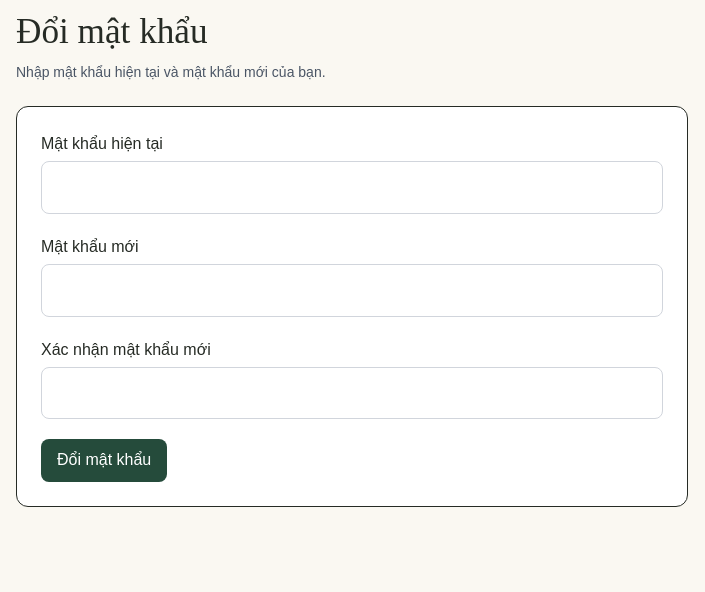
Test: change-password posts only password fields with the existing bearer and clears on success
Step 1. Type "Old-password@123" into the password field labelled "Mật khẩu hiện tại" → (352, 188), box [41,161,663,214]
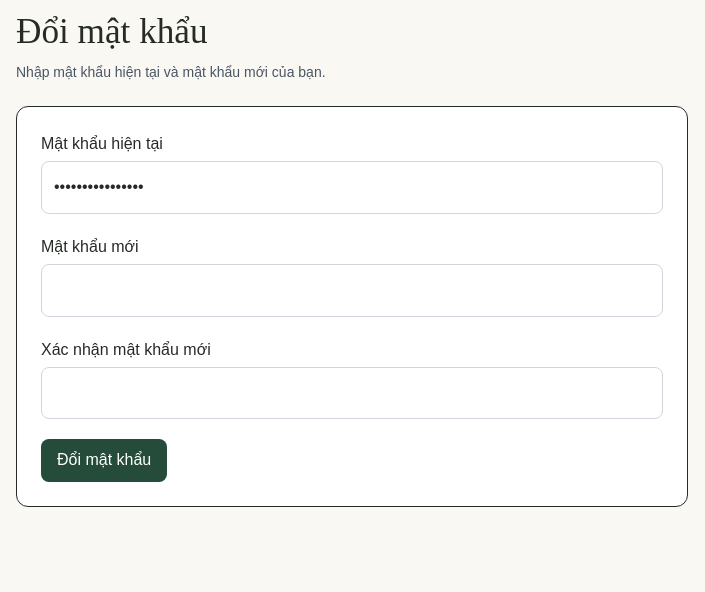
Step 2. Type "New-password@456" into the password field labelled "Mật khẩu mới" → (352, 290), box [41,264,663,317]
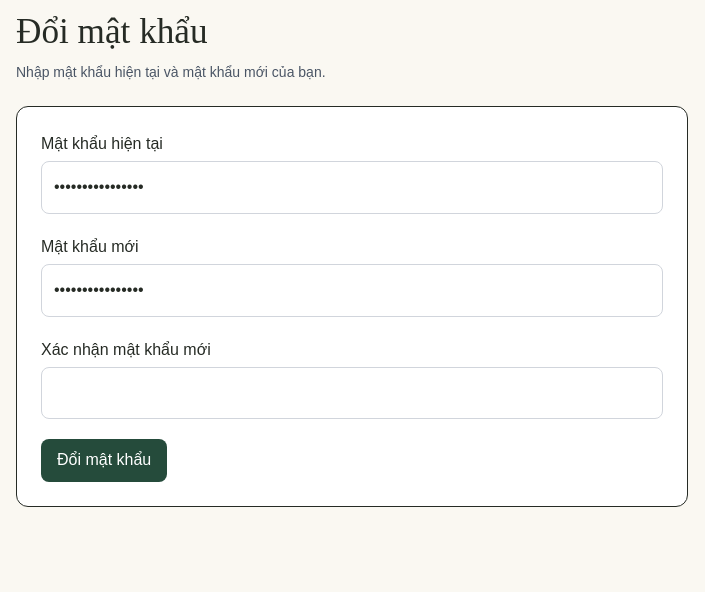
Step 3. Type "New-password@456" into the password field labelled "Xác nhận mật khẩu mới" → (352, 393), box [41,367,663,419]
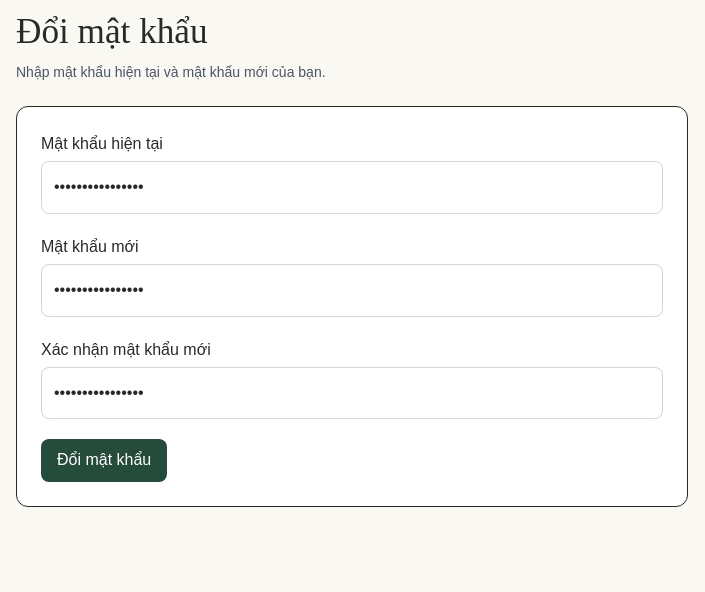
Step 4. Submit the form
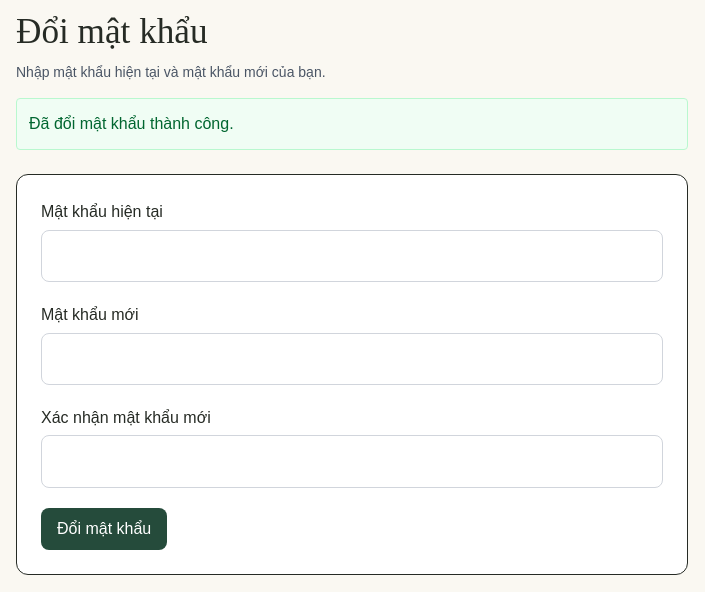
Check: the text "Đã đổi mật khẩu thành công" is shown, box [29,115,234,132]
